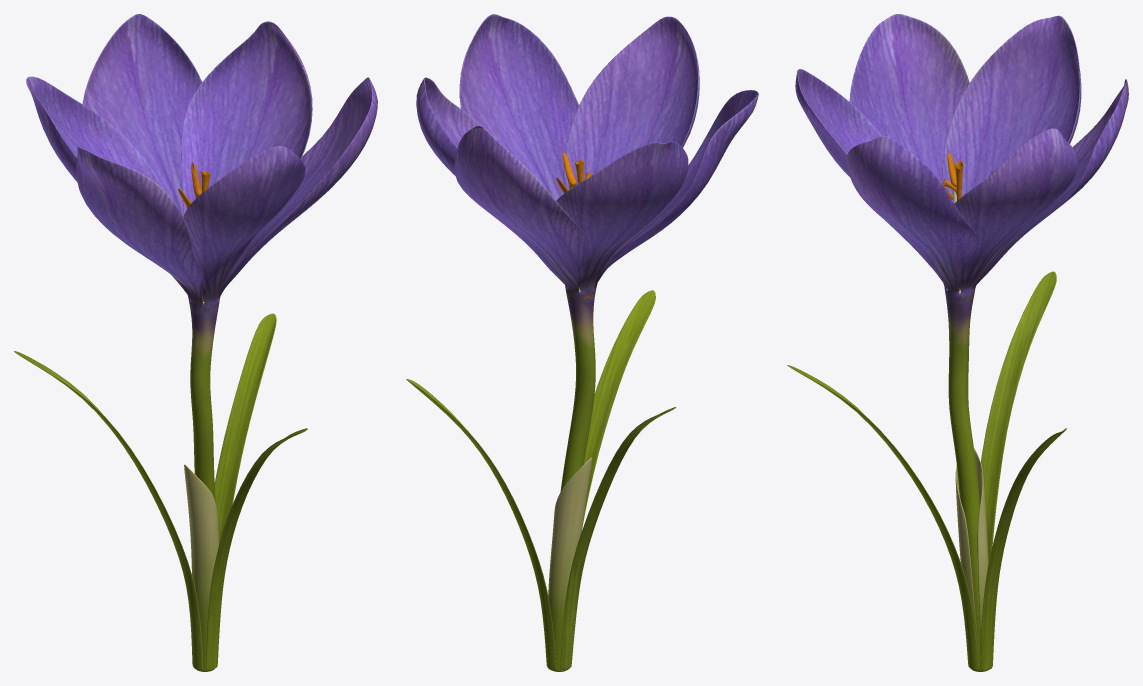
File: crocus.obj
3 renders of one model, left to right at view 1: azimuth 30°, elevation 25°; view 2: azimuth 150°, elevation 25°; view 3: azimuth 270°, elevation 25°, orthographic.
Parts seen in each view (by area): view 1: crocus; view 2: crocus; view 3: crocus.
Boxes of the visible parts, box(x1,y1,x2,y2) form: crocus: box(14, 14, 377, 671); crocus: box(406, 14, 758, 671); crocus: box(787, 14, 1128, 671).
Bounding box in the file's own units: 88.29 × 178 × 93.28.
Materials: 1 (1 with a texture image).
